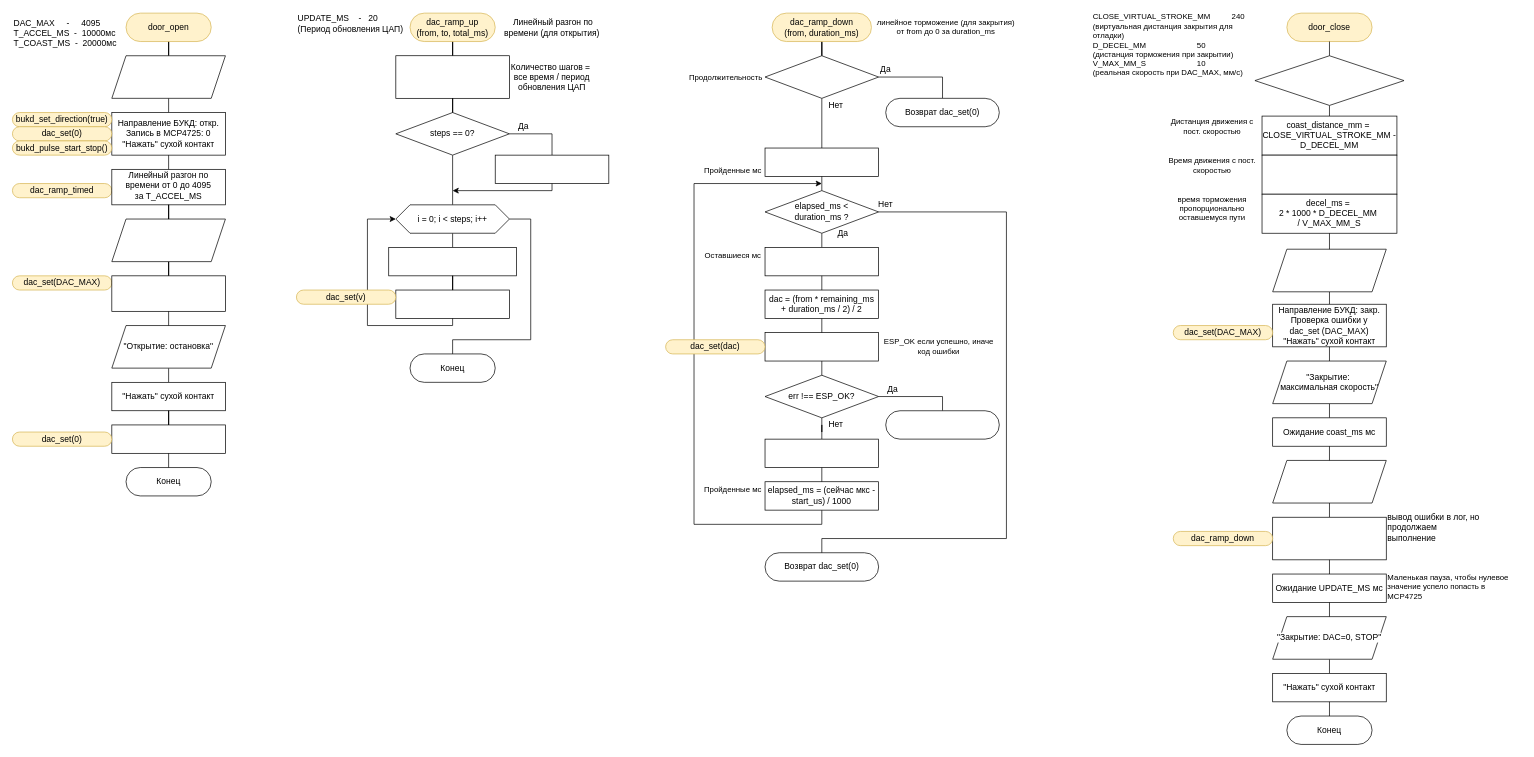
This 1534x757 diagram has some shape labels left out. The centre of each missing label's shape, as x and y in pixels:
"Закрытие: virtual stroke = мм, ход = мс, торможение = мс": [1329,270]
"Закрытие: линейное торможение": [1329,481]
"Открытие: разгон T_ACCEL_MS мс": [168,76]
"Открытие: ход T_COAST_MS мс": [168,240]
CLOSE_VIRTUAL_STROKE_MM <= D_DECEL_MM: [1329,80]
coast_ms = 1000 * c oast_distance_mm / V_MAX_MM_S: [1329,174]
duration_ms == 0?: [821,76]
err = dac_set(dac): [821,346]
remaining_ms = duration_ms - elapsed_ms: [821,261]
start_us = сейчас мкс elapsed_ms = 0: [821,161]
steps = to: [552,169]
steps = total_ms / UPDATE_MS: [452,76]
v = from + (to - from) * i / steps: [452,261]
Возврат err: [942,424]
Запись в MCP4725: 0: [168,438]
Запись в MCP4725: 4095 Ожидание T_COAST_MS мс: [168,293]
Запись в MCP4725: v Ожидание UPDATE_MS: [452,303]
Ожидание UPDATE_MS: [821,453]
Проверка ошибки у dac_ramp_down (DAC_MAX, decel_ms): [1329,538]
